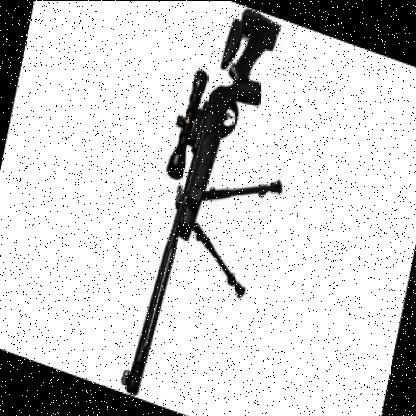rifle: (112, 0, 282, 416)
